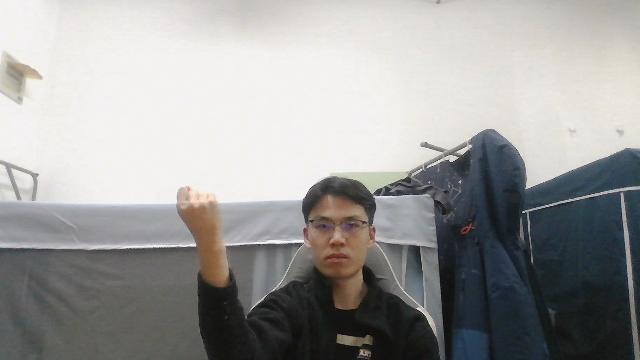ten: (173, 185, 224, 243)
